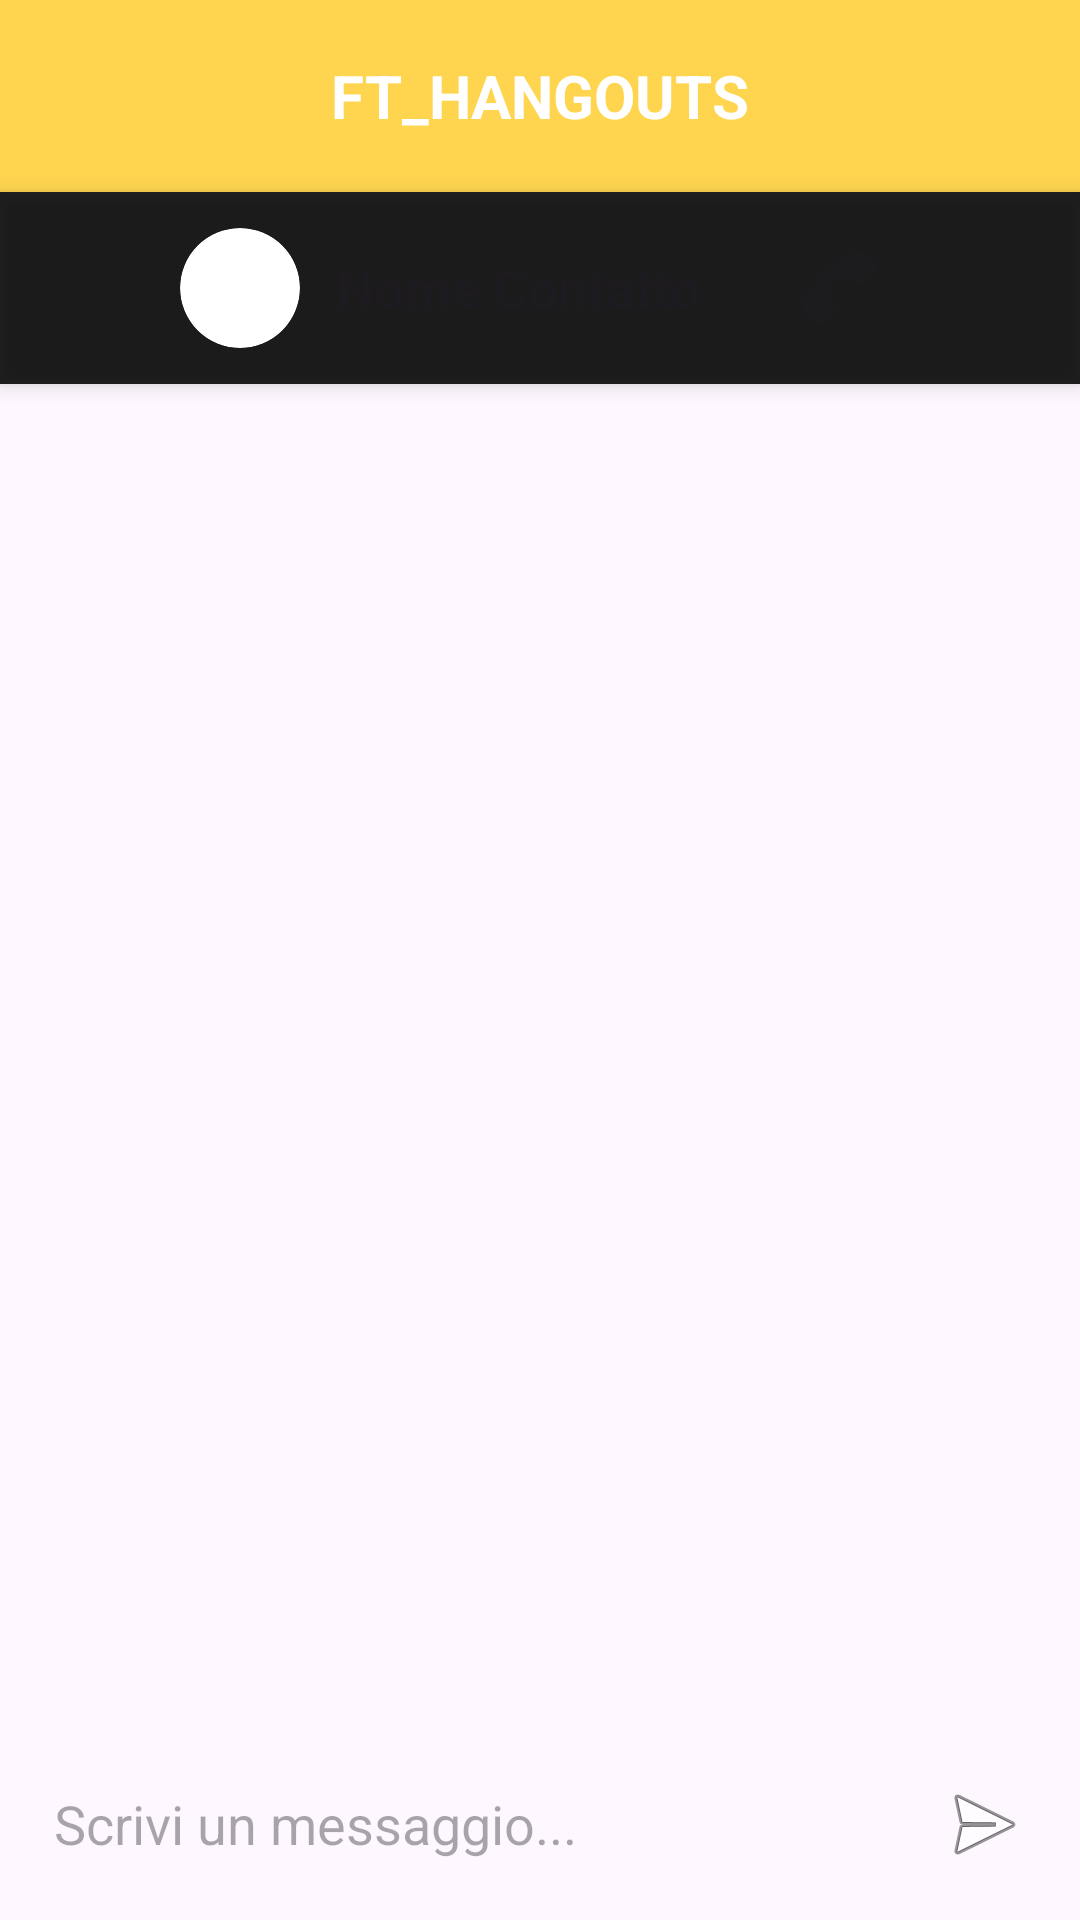

Named icons in this screenshot (1080*1920) and their bounding boxes, bbox=(x1, y1, x2, y2):
Invia: bbox=(954, 1794, 1016, 1855)
